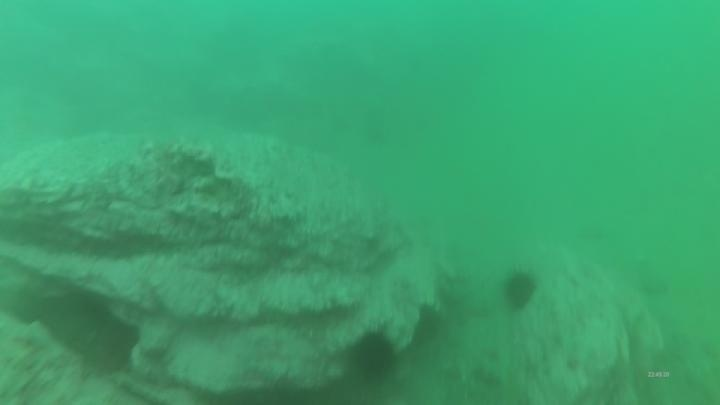echinus: (346, 326, 401, 385), (499, 267, 540, 314)
